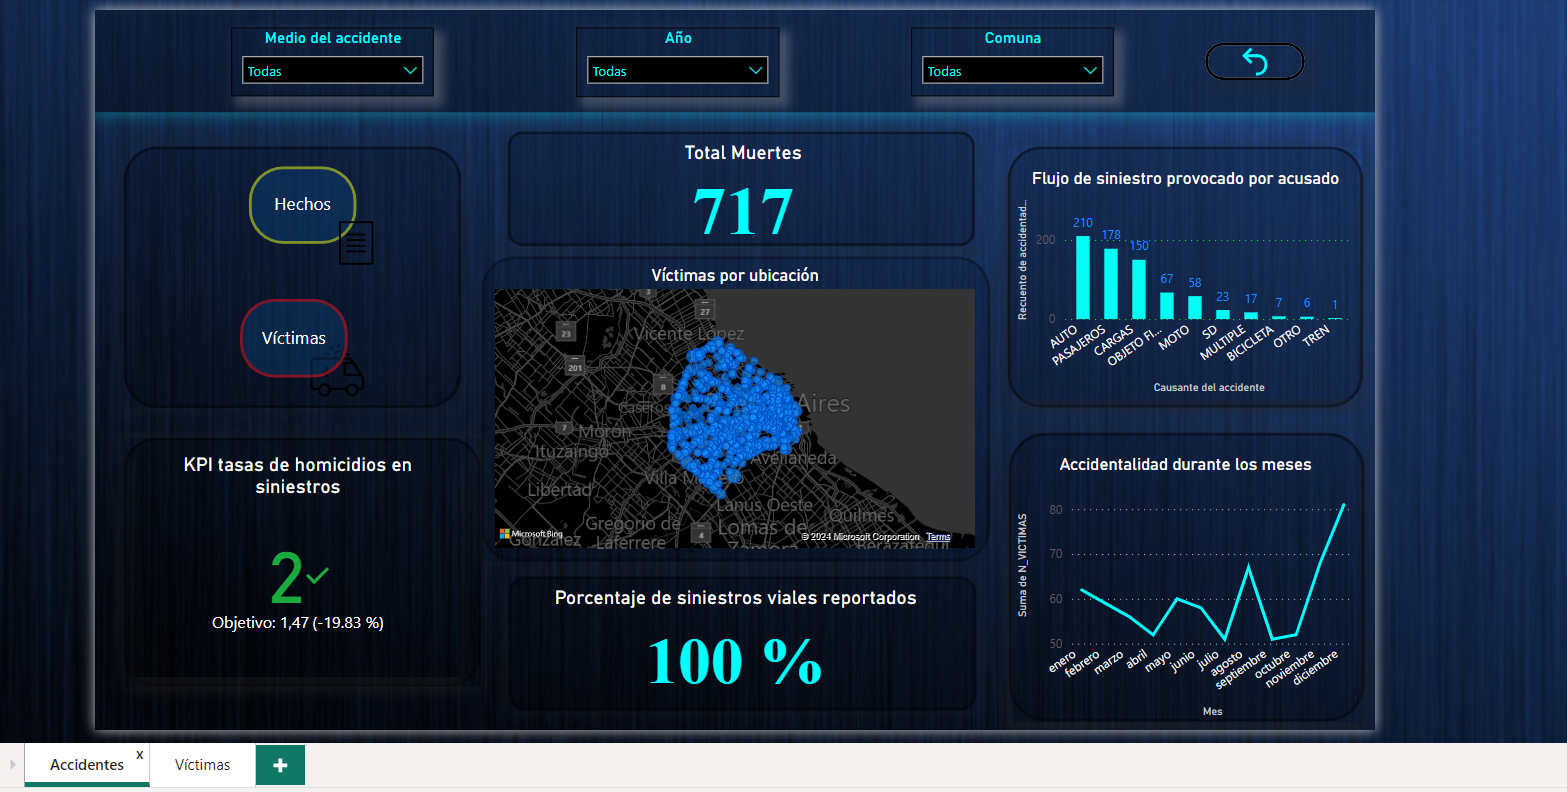

This screenshot's page, from the dashboard's own definition file:
{"tool":"powerbi","page":{"name":"Accidentes","canvas":[1280,720],"ordinal":0},"visuals":[{"type":"shape","box":[28.9,136.3,337.7,261.7],"z":0},{"type":"shape","box":[412.5,121.2,467.5,115],"z":1000},{"type":"shape","box":[413.3,566.7,467.8,134.4],"z":2000},{"type":"shape","box":[28.9,426.9,357,249.6],"z":3000},{"type":"shape","box":[913.3,422.6,355.9,289.1],"z":4000},{"type":"shape","title":"Mapeo de accidentalidad","box":[386.7,246.7,508.9,305.6],"z":5000},{"type":"shape","box":[912.9,135.7,355.7,261.4],"z":6000},{"type":"columnChart","title":"Flujo de siniestro provocado por acusado","fields":{"Y":["Sum(HECHOS.N_VICTIMAS)"],"Category":["HECHOS.ACUSADO"]},"box":[917.8,158,346.1,231.6],"z":7000},{"type":"lineChart","title":"Accidentalidad durante los meses","fields":{"Y":["Sum(HECHOS.N_VICTIMAS)"],"Category":["HECHOS.FECHA.Variación.Jerarquía de fechas.Mes"]},"box":[917.8,443.8,346.1,268.9],"z":8000},{"type":"shape","box":[0,0,1280.2,102.5],"z":9000},{"type":"slicer","title":"Comuna","fields":{"Values":["HECHOS.COMUNA"]},"box":[816.5,18.1,202.6,68.7],"z":10000},{"type":"card","title":"Total Muertes","fields":{"Values":["Sum(HECHOS.N_VICTIMAS)"]},"box":[433.8,131.2,428.8,105],"z":11000},{"type":"slicer","title":"Año","fields":{"Values":["HECHOS.FECHA.Variación.Jerarquía de fechas.Año"]},"box":[481,18.1,203,69.5],"z":12000},{"type":"slicer","title":"Medio del accidente","fields":{"Values":["HECHOS.ACUSADO"]},"box":[136.3,18.1,202.6,68.7],"z":13000},{"type":"actionButton","box":[1109.5,32.4,100,37.8],"z":14000},{"type":"card","title":"Porcentaje de siniestros viales reportados","fields":{"Values":["HECHOS.total_victi"]},"box":[416.7,576.7,448.9,114.4],"z":15000},{"type":"image","box":[207.8,328.9,68.9,63.3],"z":16000},{"type":"actionButton","box":[144.4,288.9,107.8,78.9],"z":17000},{"type":"actionButton","box":[153.3,156.7,107.8,77.8],"z":18000},{"type":"image","box":[232.2,203.3,56.7,58.9],"z":19000},{"type":"map","title":"Víctimas por ubicación","fields":{"X":["HECHOS.Longitud"],"Y":["HECHOS.Latitud"],"Size":["Sum(HECHOS.N_VICTIMAS)"]},"box":[400,255.6,480,283.3],"z":20000},{"type":"kpi","title":"KPI tasas de homicidios en siniestros","fields":{"Goal":["HECHOS.tasa_rest_meses"],"Indicator":["HECHOS.Taza_Early_Meses"],"TrendLine":["HECHOS.FECHA"]},"box":[40,444.3,325.7,222.9],"z":21000}]}

Visuals, with their boxes on the page's 1280x720 design canvas (x1, y1, x2, y2). These are canvas units, not pixel positions in the 1567x792 screenshot, which may show the page scaled, cropped or inside an application window:
shape: <box>29,136,367,398</box>
shape: <box>412,121,880,236</box>
shape: <box>413,567,881,701</box>
shape: <box>29,427,386,676</box>
shape: <box>913,423,1269,712</box>
"Mapeo de accidentalidad" shape: <box>387,247,896,552</box>
shape: <box>913,136,1269,397</box>
"Flujo de siniestro provocado por acusado" columnChart: <box>918,158,1264,390</box>
"Accidentalidad durante los meses" lineChart: <box>918,444,1264,713</box>
shape: <box>0,0,1280,102</box>
"Comuna" slicer: <box>816,18,1019,87</box>
"Total Muertes" card: <box>434,131,863,236</box>
"Año" slicer: <box>481,18,684,88</box>
"Medio del accidente" slicer: <box>136,18,339,87</box>
actionButton: <box>1110,32,1210,70</box>
"Porcentaje de siniestros viales reportados" card: <box>417,577,866,691</box>
image: <box>208,329,277,392</box>
actionButton: <box>144,289,252,368</box>
actionButton: <box>153,157,261,234</box>
image: <box>232,203,289,262</box>
"Víctimas por ubicación" map: <box>400,256,880,539</box>
"KPI tasas de homicidios en siniestros" kpi: <box>40,444,366,667</box>
